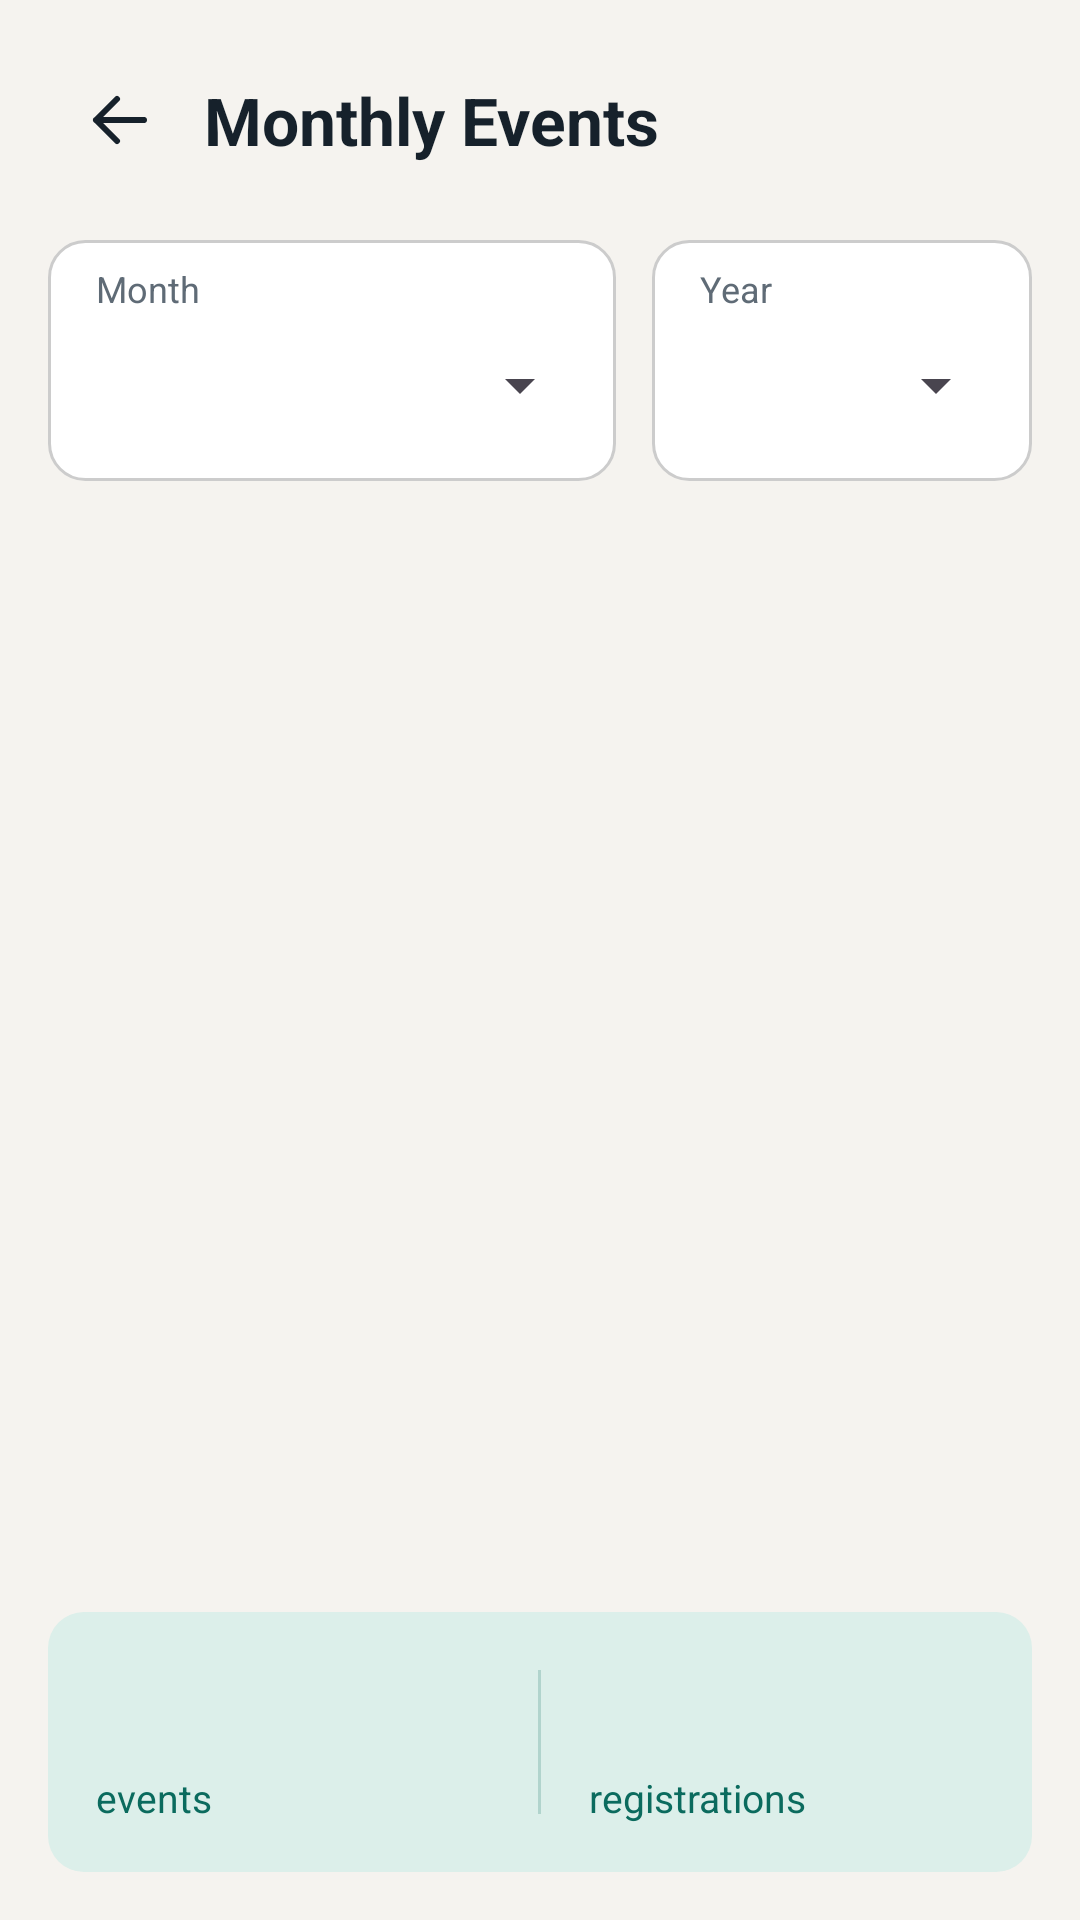

Icon bounding boxes for this 1080px x 1920px phone screenshot, format bbox=[x1, y1, x2, y2]:
Back: bbox=[93, 96, 147, 144]
